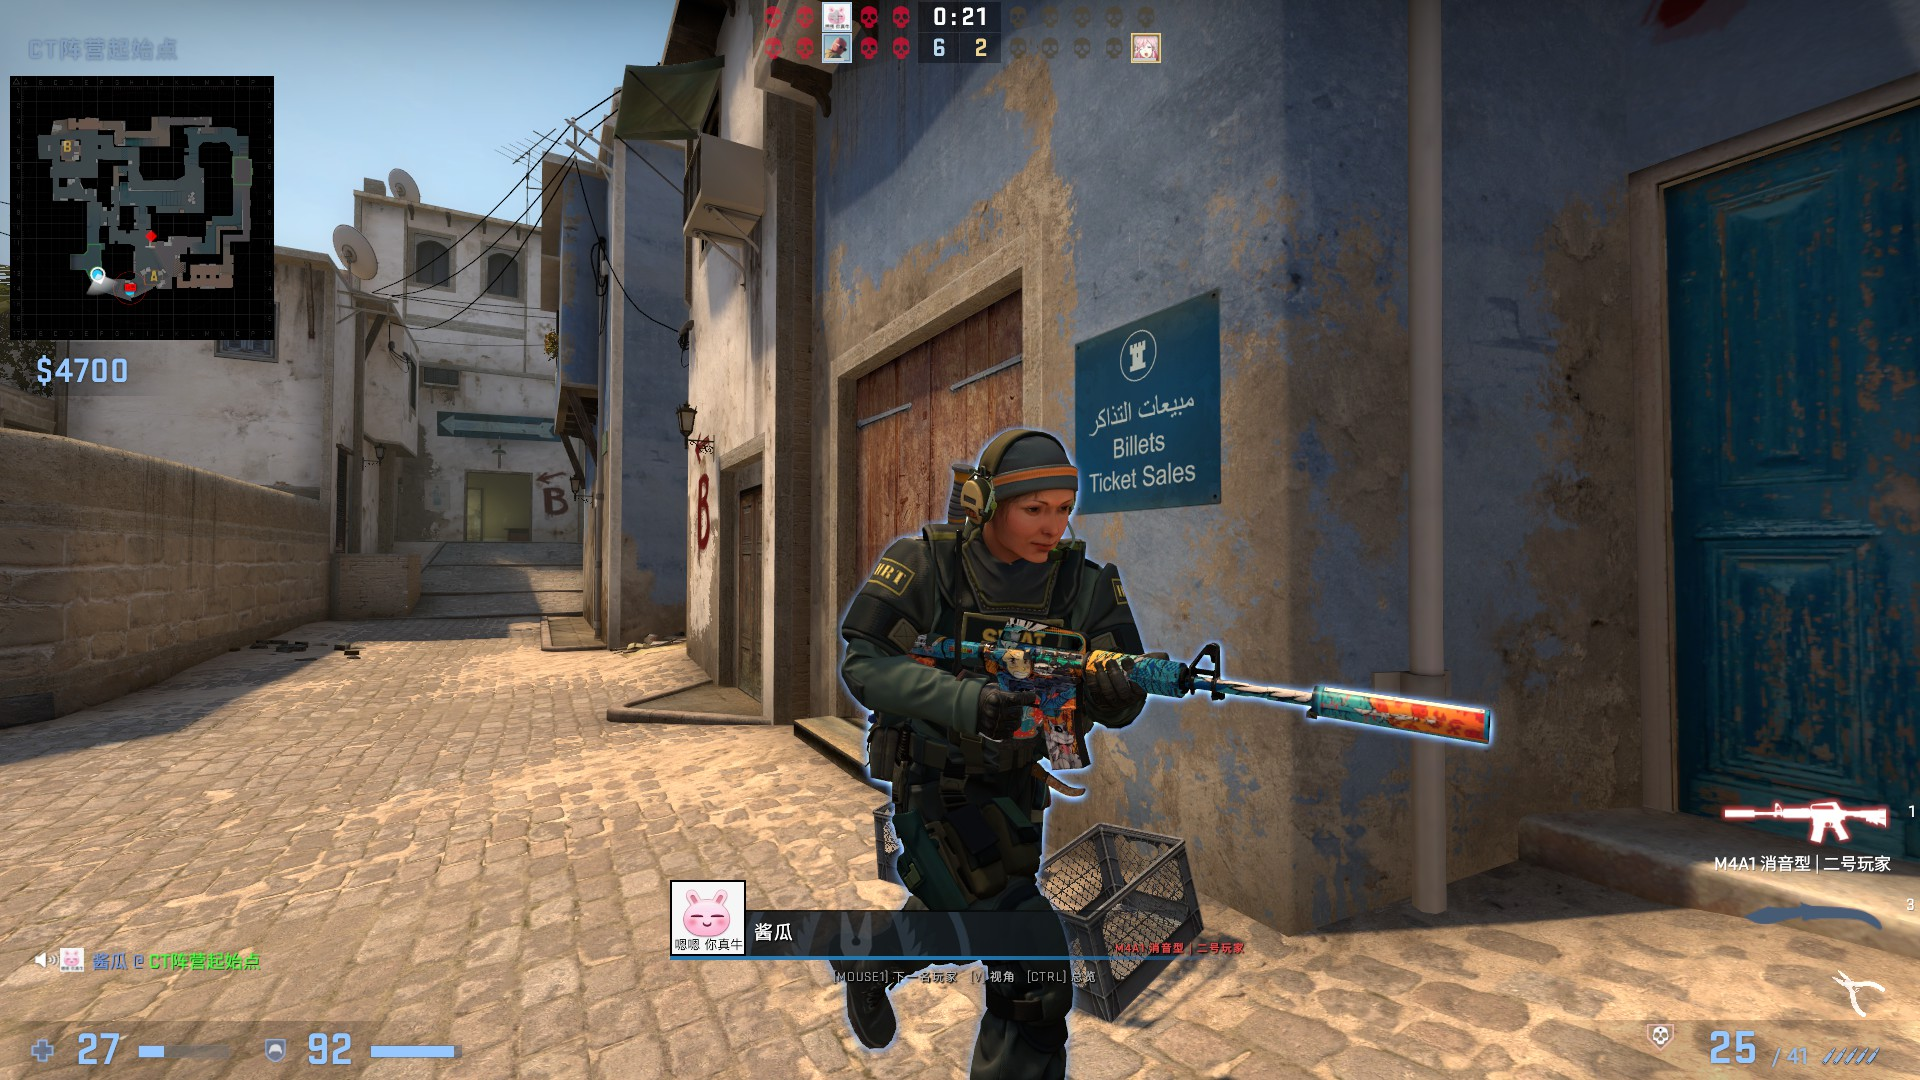head: (964, 423, 1076, 563)
